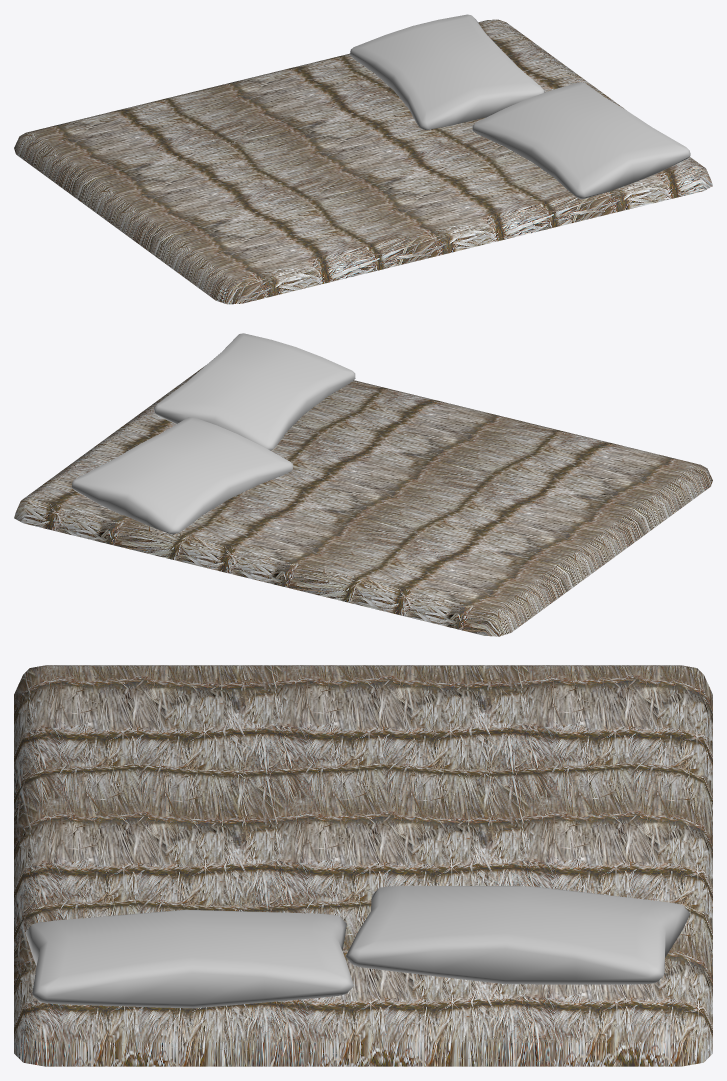
The model's file is Bed.FBX.
3 renders of one model, top to bottom at view 1: azimuth 30°, elevation 25°; view 2: azimuth 150°, elevation 25°; view 3: azimuth 270°, elevation 25°, orthographic. The views are drawn at different scales.
Parts seen in each view (by area): view 1: ChamferBox001, BedPillows; view 2: ChamferBox001, BedPillows; view 3: ChamferBox001, BedPillows.
Boxes of the visible parts, x1,y1,x2,y2 form: ChamferBox001: (14, 19, 712, 304); BedPillows: (350, 14, 690, 199); ChamferBox001: (14, 366, 712, 636); BedPillows: (71, 333, 355, 534); ChamferBox001: (14, 665, 712, 1066); BedPillows: (25, 886, 690, 1008).
Bounding box in the file's own units: 2.74 × 0.2443 × 2.1.
